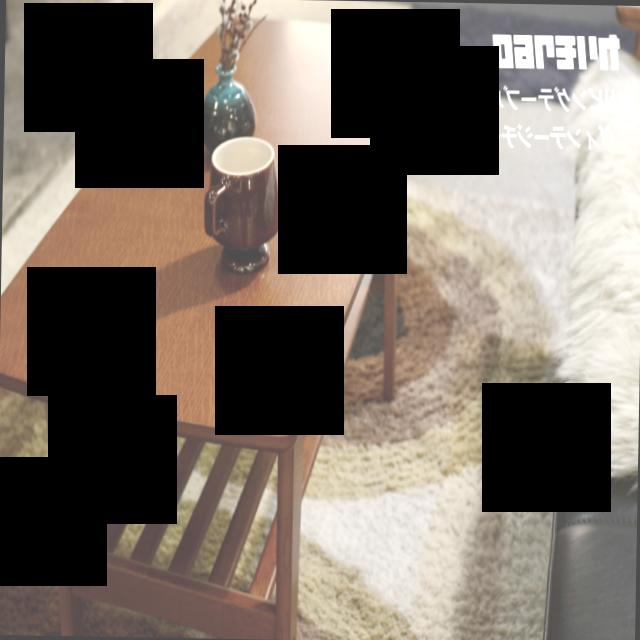vintage desk: (0, 9, 434, 640)
